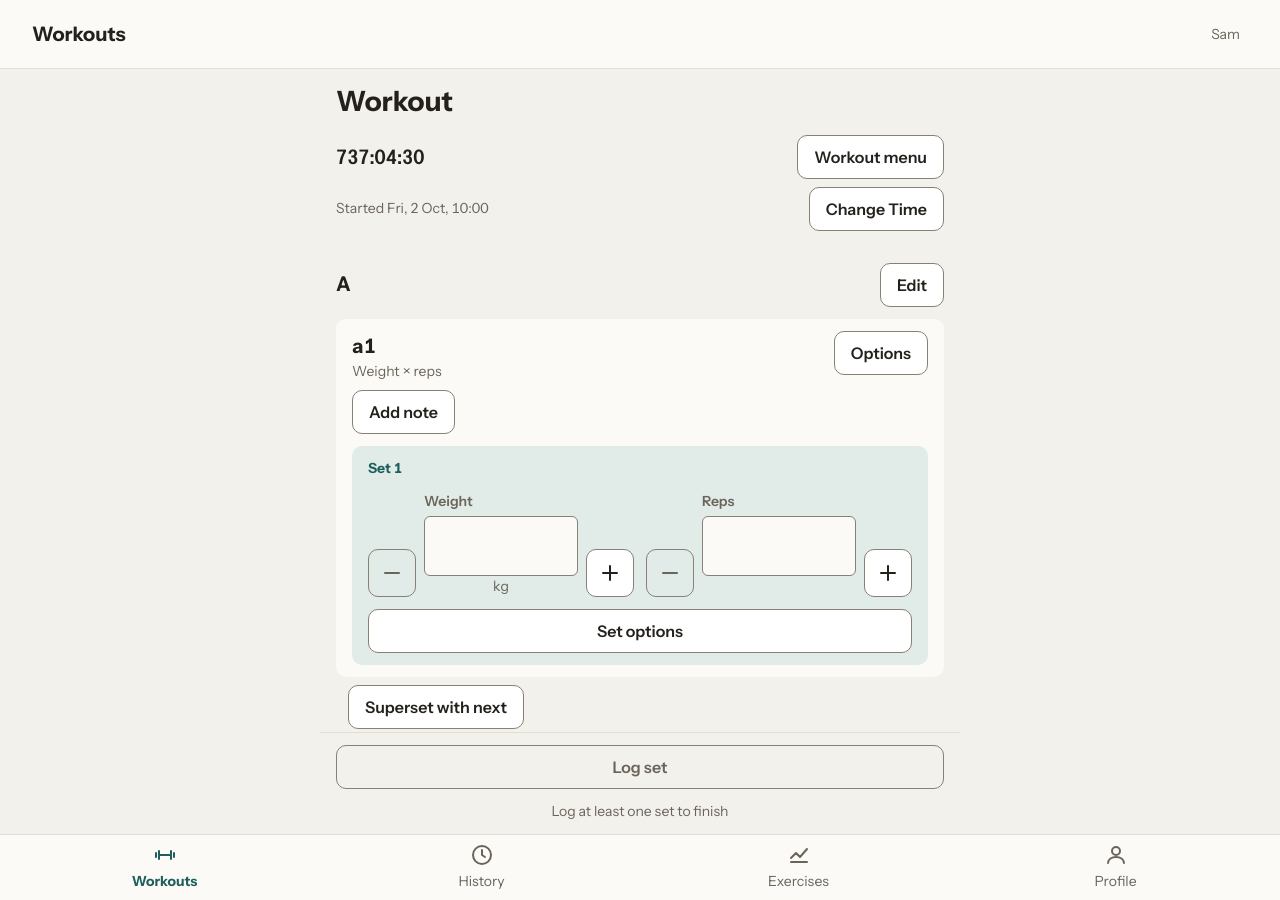
Test: 10.3 AC26 — moves and links stay inside a section › each section numbers its runs by itself, and the screen shows the on-screen ordinal
Expected: the heading "Workout" is shown, [336, 84, 453, 118]
Click the button with aria-label "Superset a1 with a2": (436, 707) [348, 685, 524, 729]
(page scrolled)
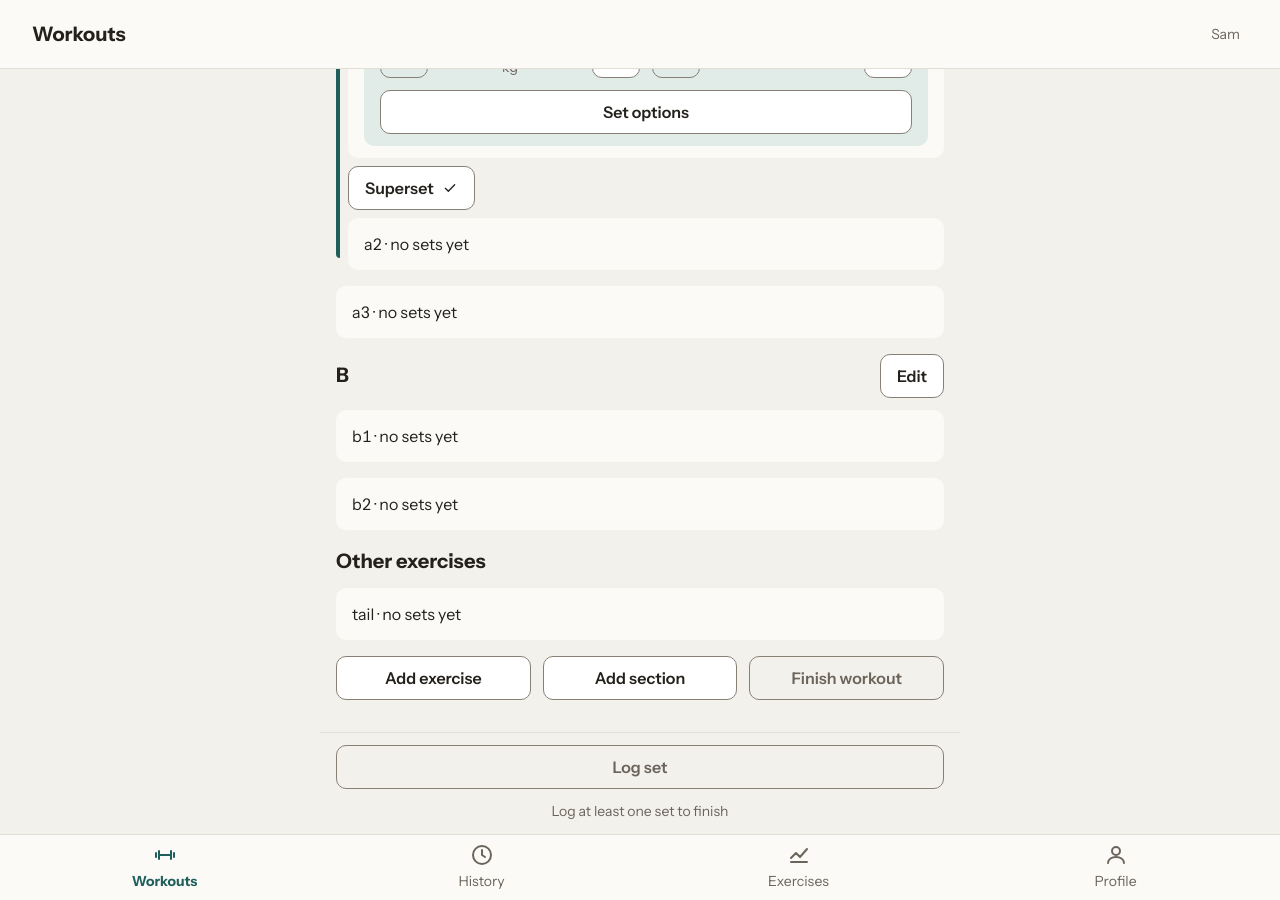
Click the button "b1 · no sets yet": (405, 436) [352, 414, 928, 458]
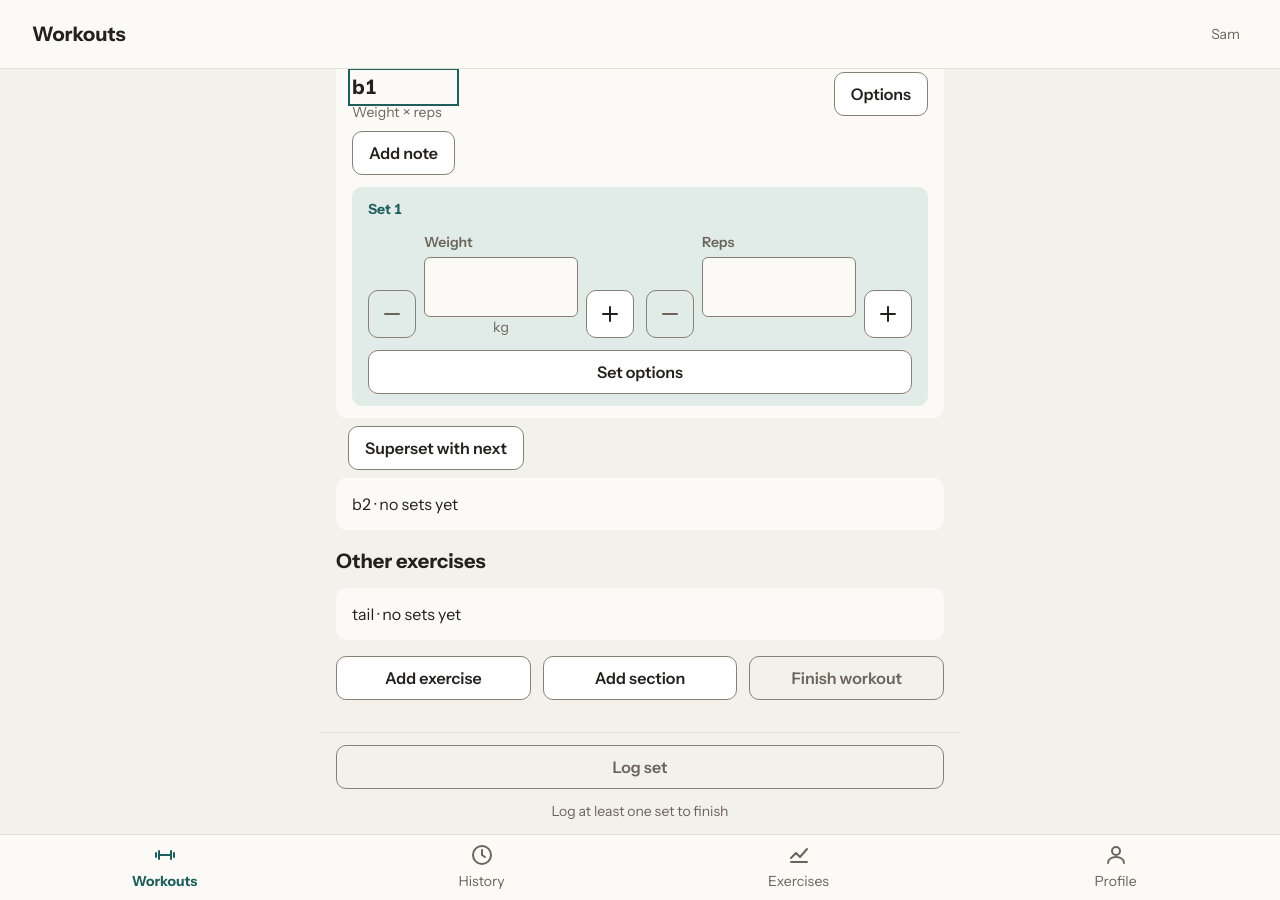
Click the button with aria-label "Superset b1 with b2": (436, 448) [348, 426, 524, 470]
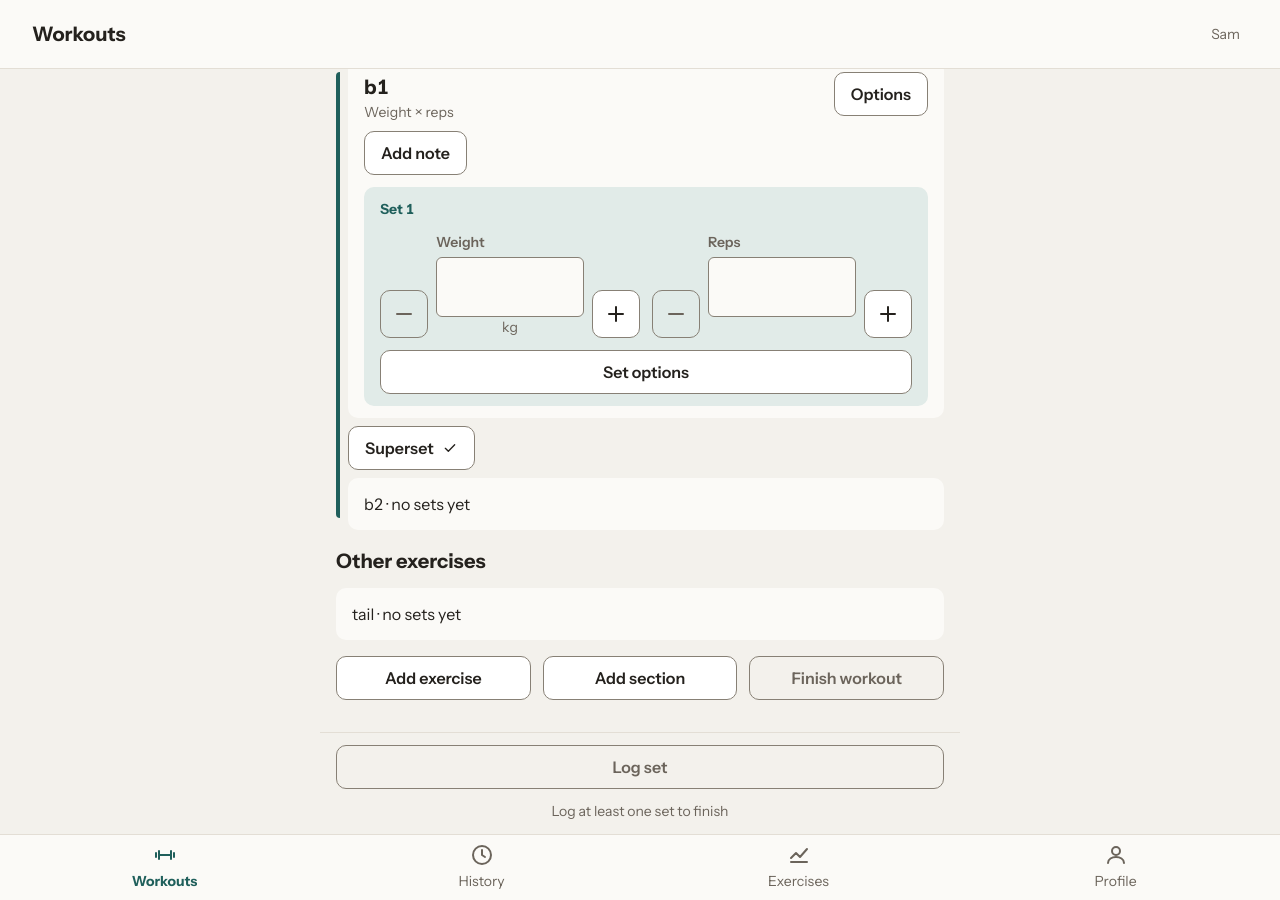
Result: the element named "b1, superset 2" is shown at [348, 69, 944, 418]
